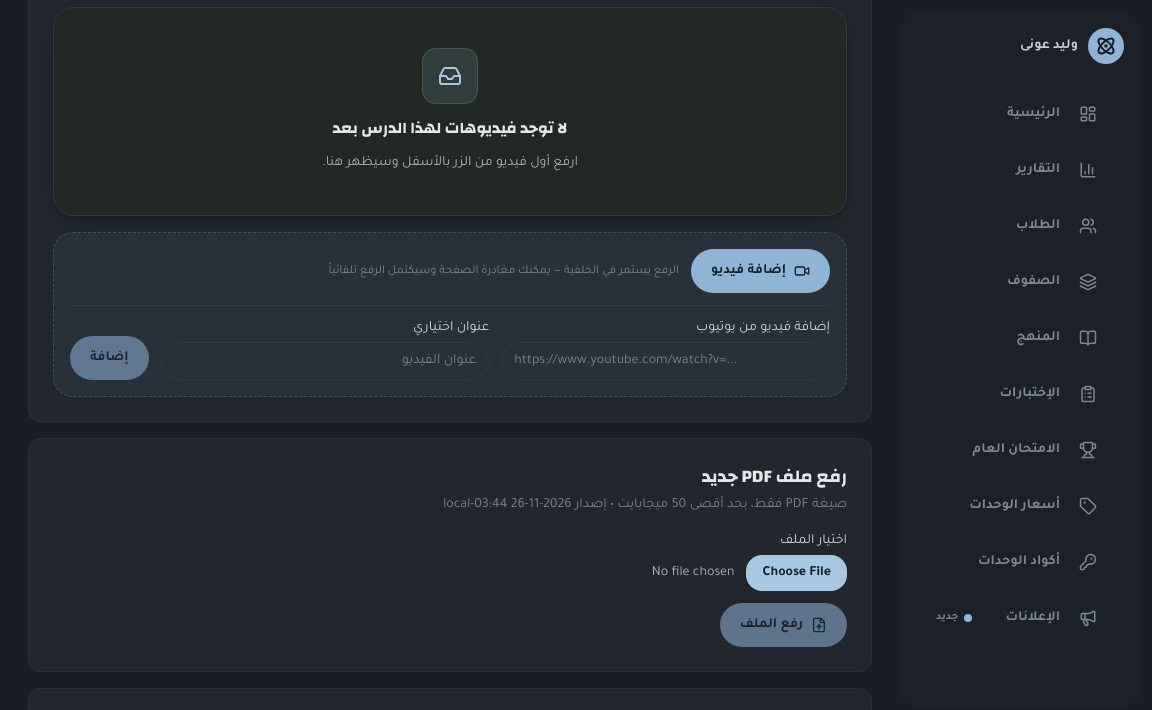
it: LessonAssetsPage — video section › maps duplicate and missing-lesson youtube errors to Arabic
The image size is (1152, 710).
(page scrolled)
Check: the text "لا توجد فيديوهات لهذا الدرس بعد" is shown, box left=332, top=116, right=568, bottom=140
In the field labelled "إضافة فيديو من يوتيوب": (666, 361) left=501, top=342, right=830, bottom=380, type "https://www.youtube.com/watch?v=abc123DEF45"
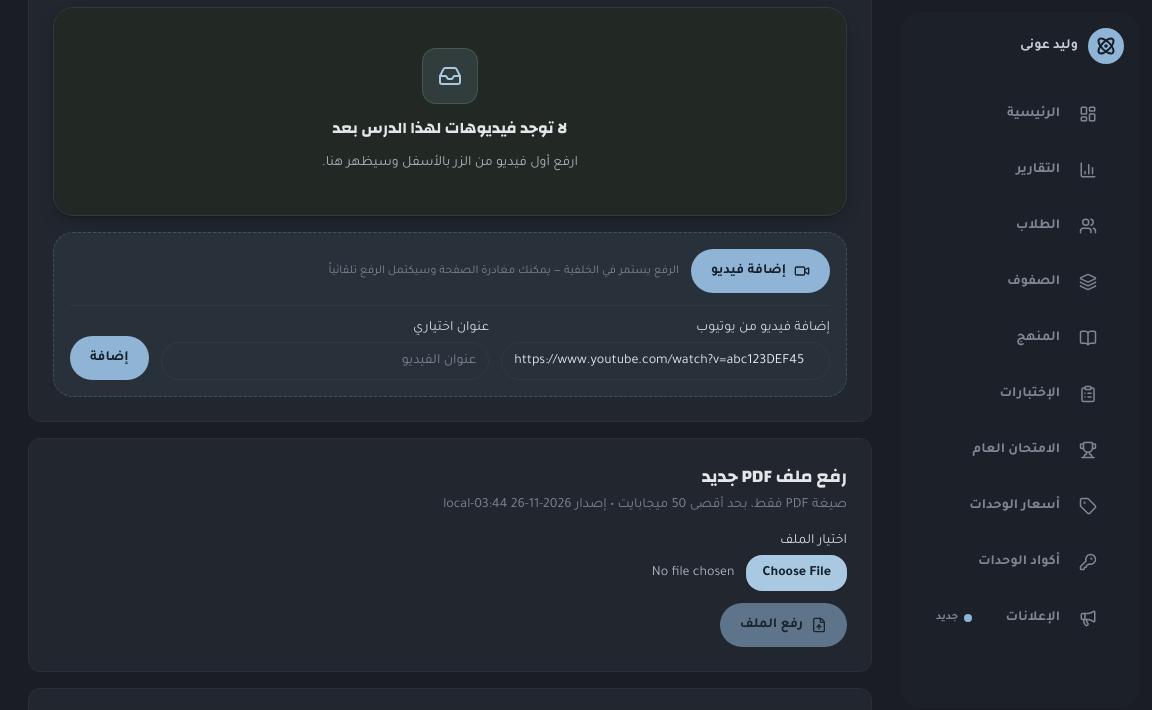
Click the button "إضافة": (109, 358) left=70, top=336, right=148, bottom=380
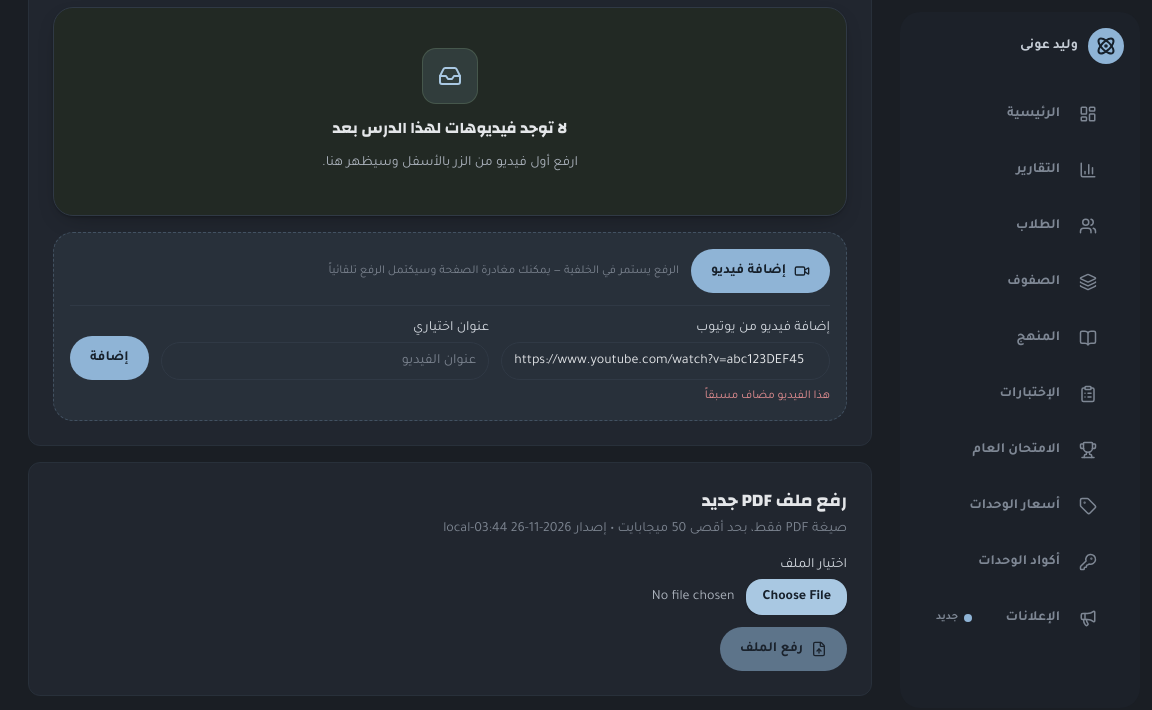
Check: the text "هذا الفيديو مضاف مسبقاً" is shown, box left=705, top=390, right=830, bottom=402
Replace the text in the field labelled "إضافة فيديو من يوتيوب" with "https://youtu.be/abc123DEF45": (666, 361) left=501, top=342, right=830, bottom=380
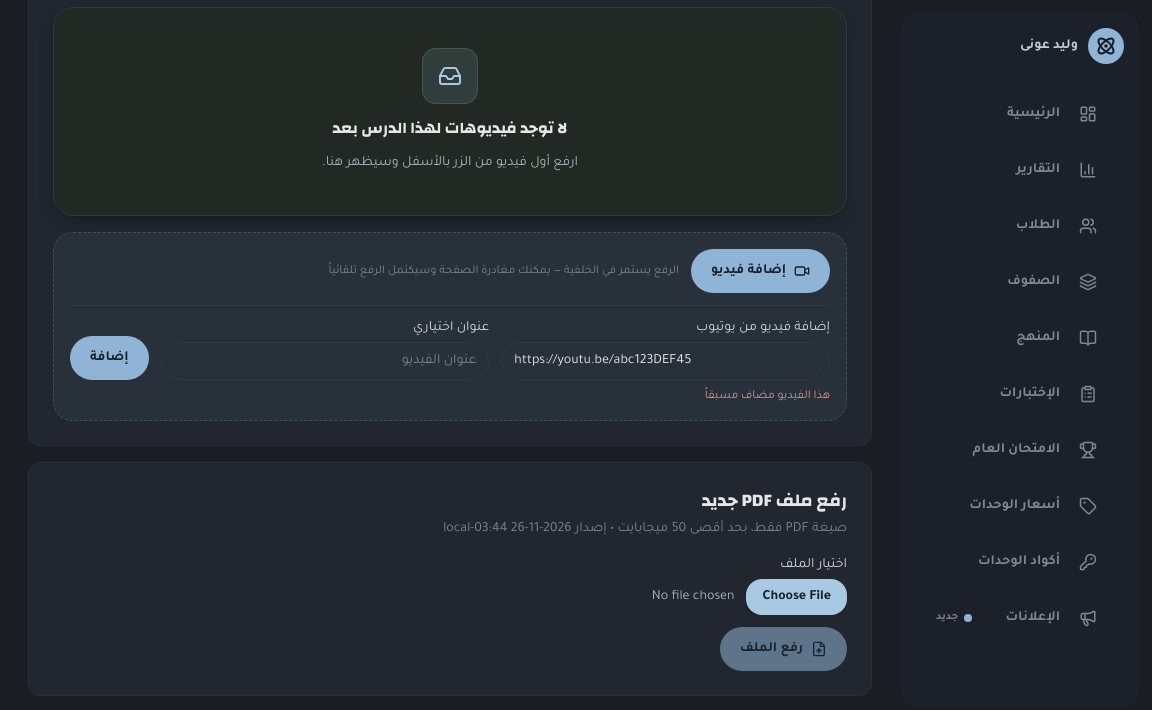
Click the button "إضافة": (109, 358) left=70, top=336, right=148, bottom=380
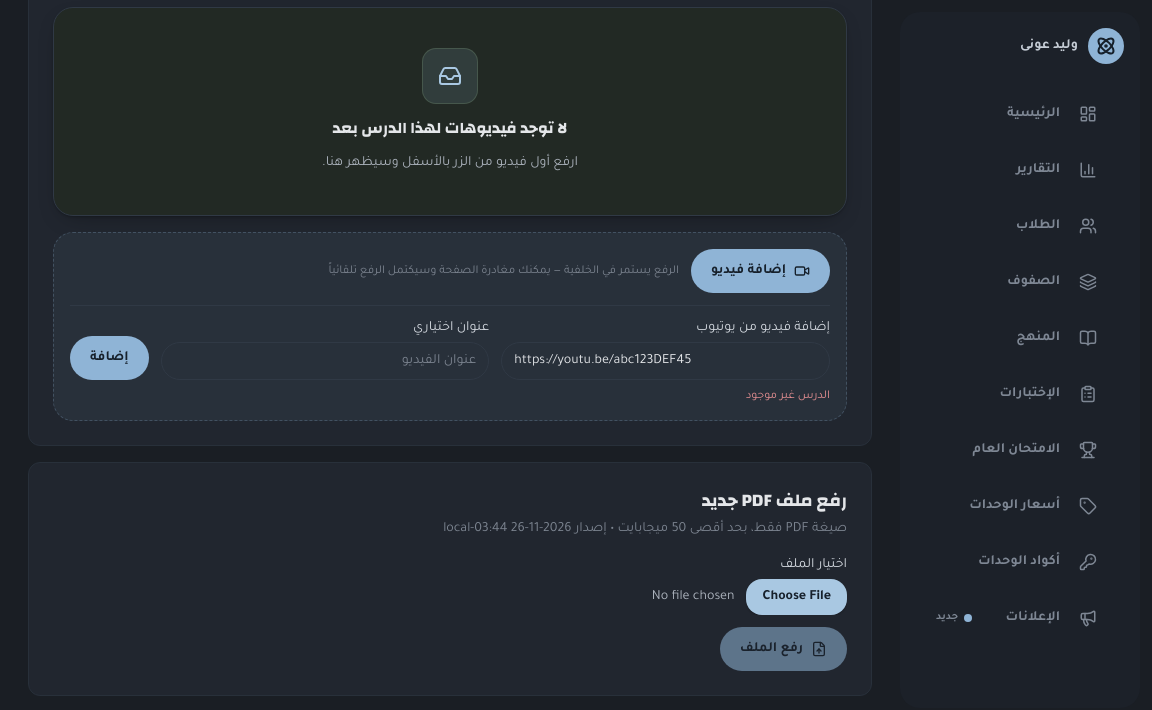
Check: the text "الدرس غير موجود" is shown, box left=746, top=390, right=830, bottom=402
